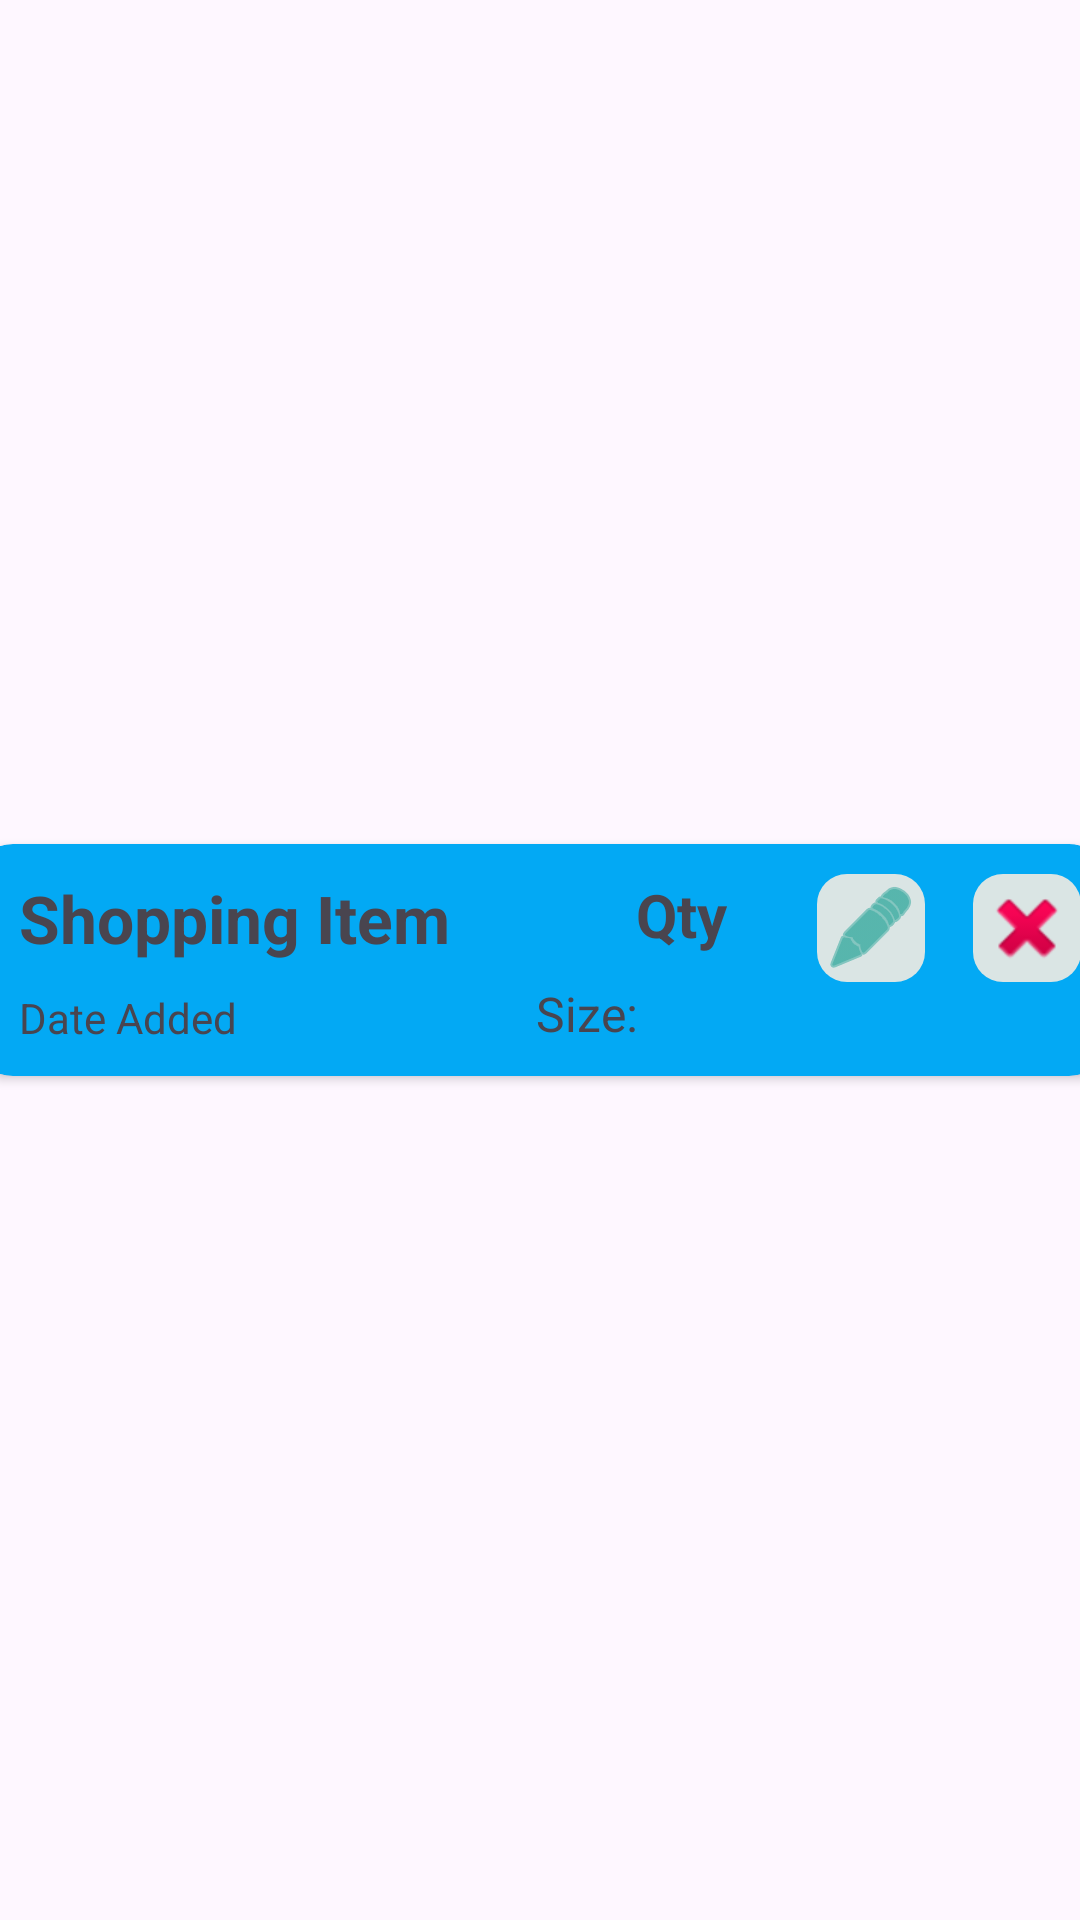

Icon bounding boxes for this 1080 x 1920 phone screenshot, format (x1, y1, x2, y2):
delete: (973, 874, 1080, 982)
edit: (817, 874, 925, 982)
